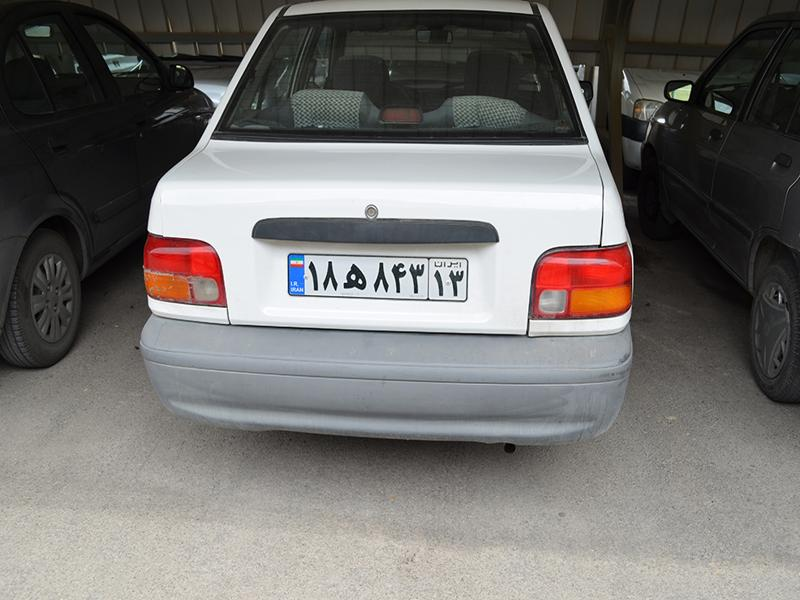Plate: (269, 250, 477, 308)
